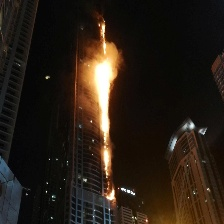fire: (95, 18, 118, 202)
